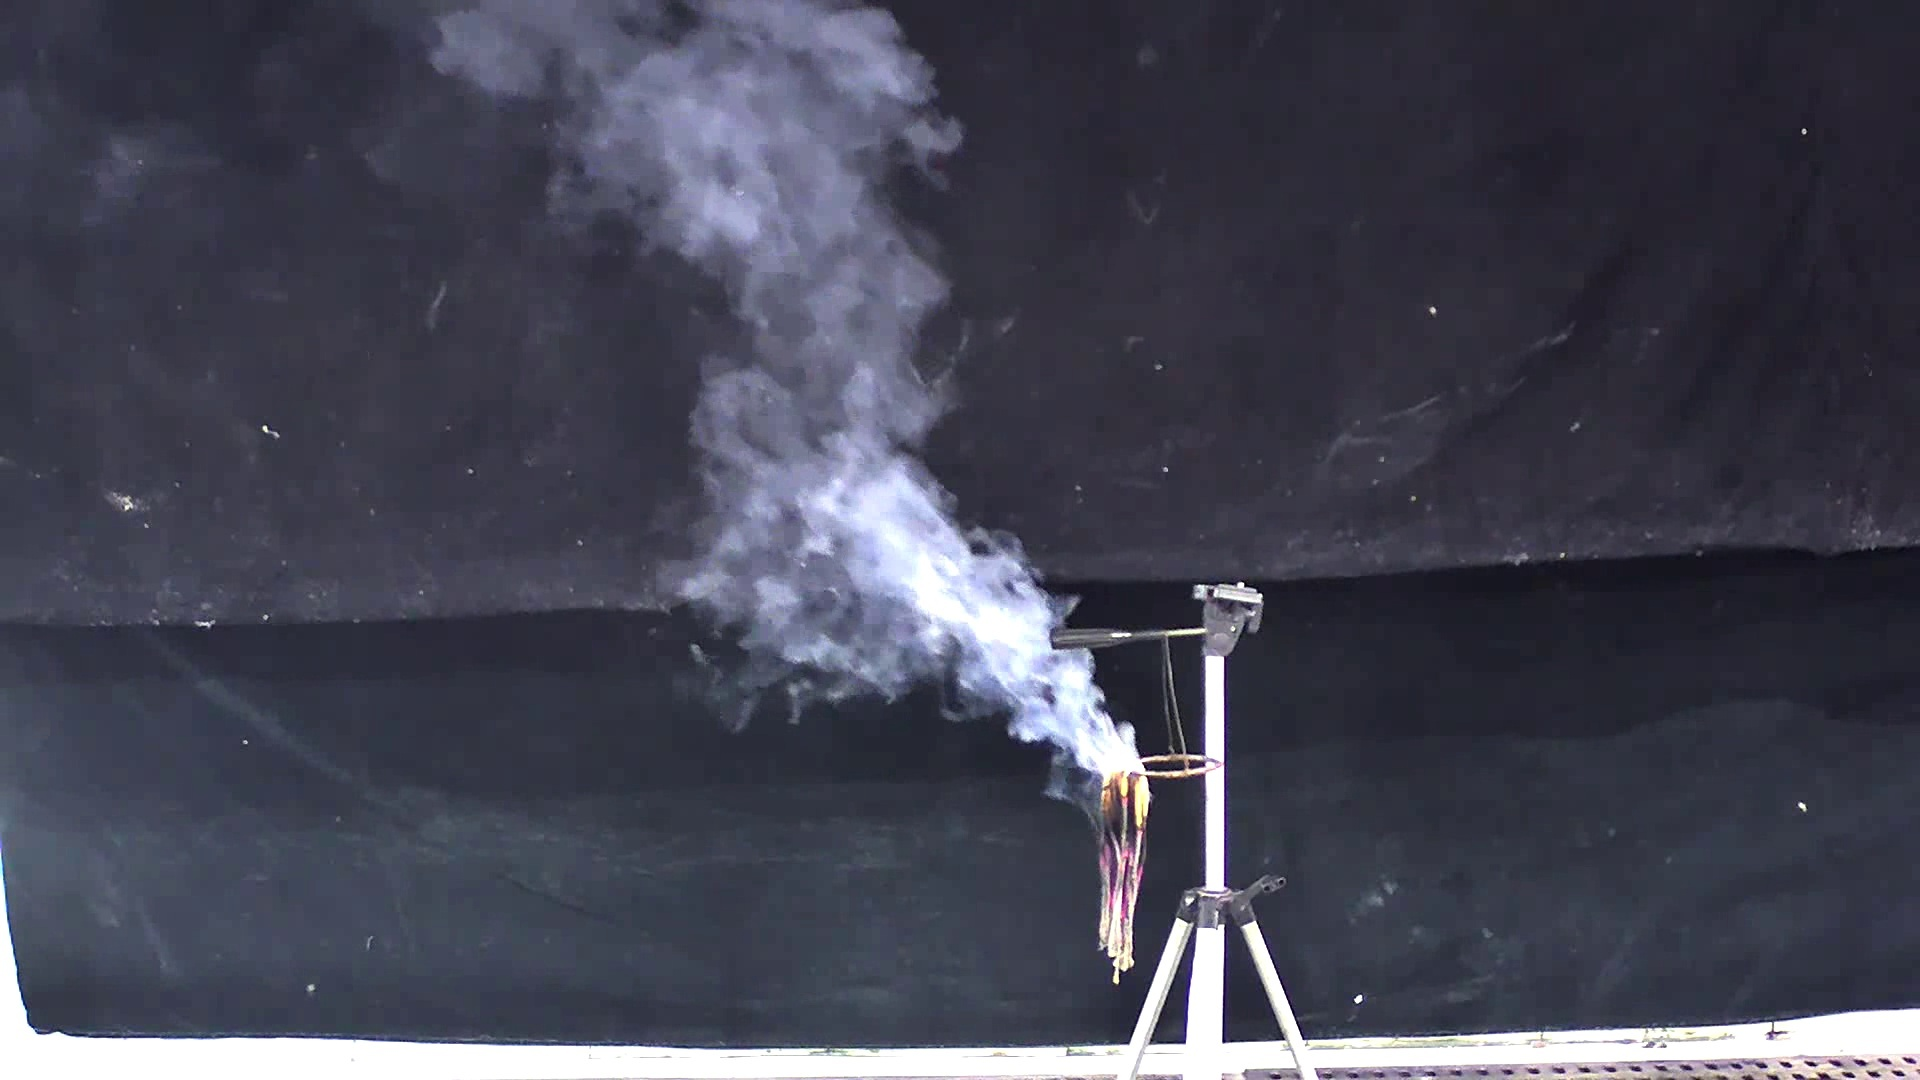smoke: (578, 69, 1149, 782)
